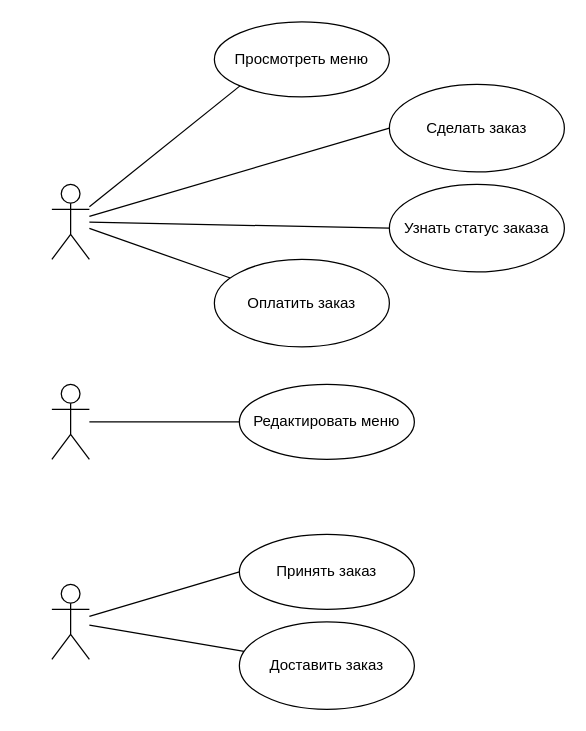
The diagram is 586 pixels wide and 731 high, and some of its shapes have lost their labels. Here are the shapes that lost their labels. From the top down, the centre of each, then its label:
At pixel 70 221: "Пользователь".
At pixel 70 421: "Ресторан".
At pixel 70 621: "Курьер".
